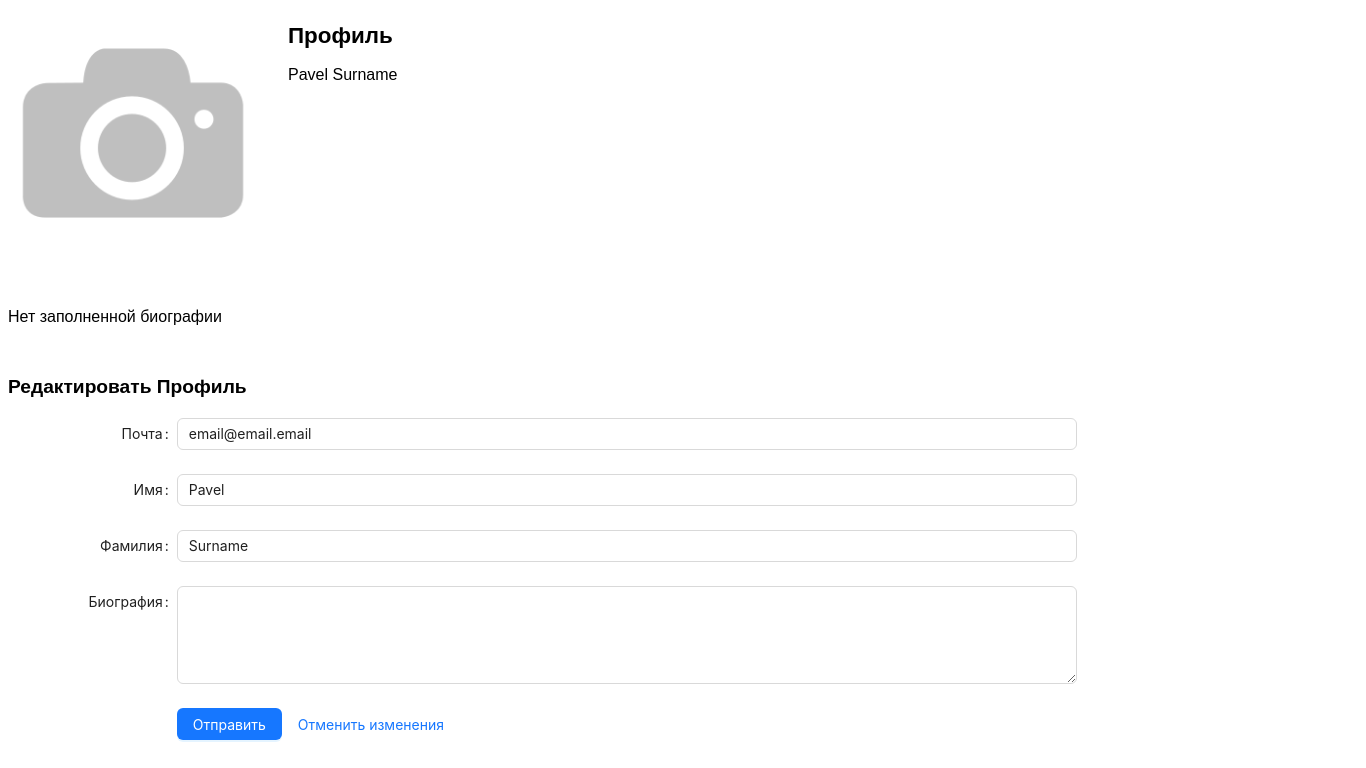
User Profile › should set form field with default values on clicking reset button
Type "Ivan" into the field labelled "Имя" at (627, 490), box x1=177 y1=474 x2=1077 y2=506
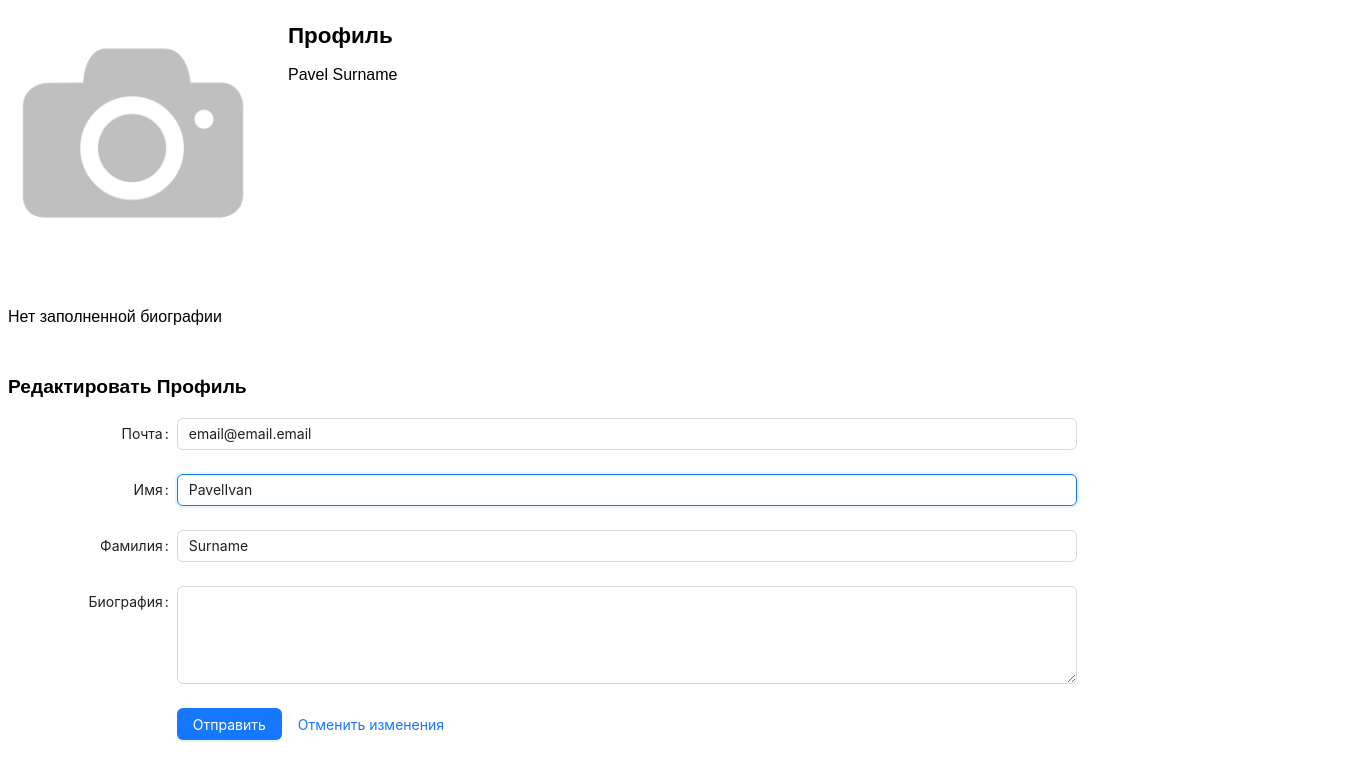
Type "Ivanov" into the field labelled "Фамилия" at (627, 546), box x1=177 y1=530 x2=1077 y2=562
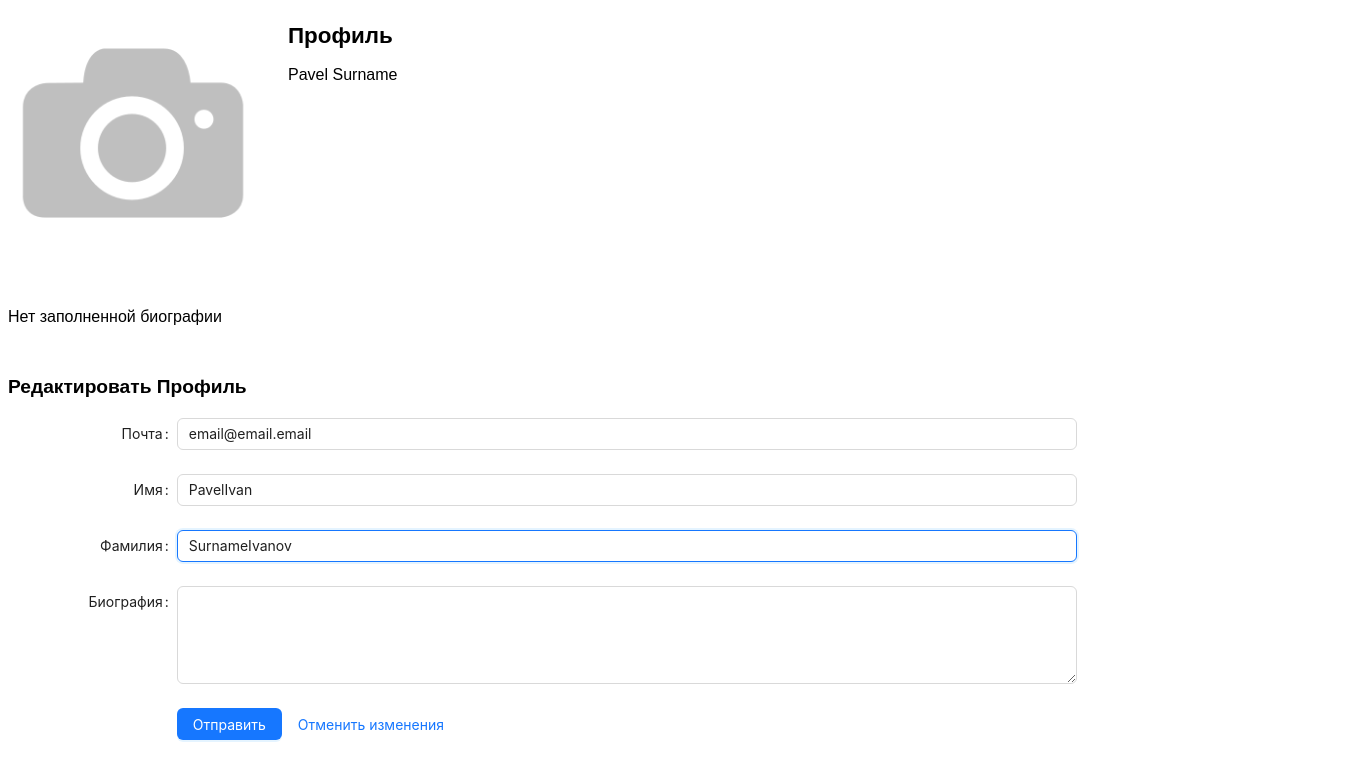
Click the button "Отменить изменения" at (371, 724), box x1=282 y1=708 x2=460 y2=740
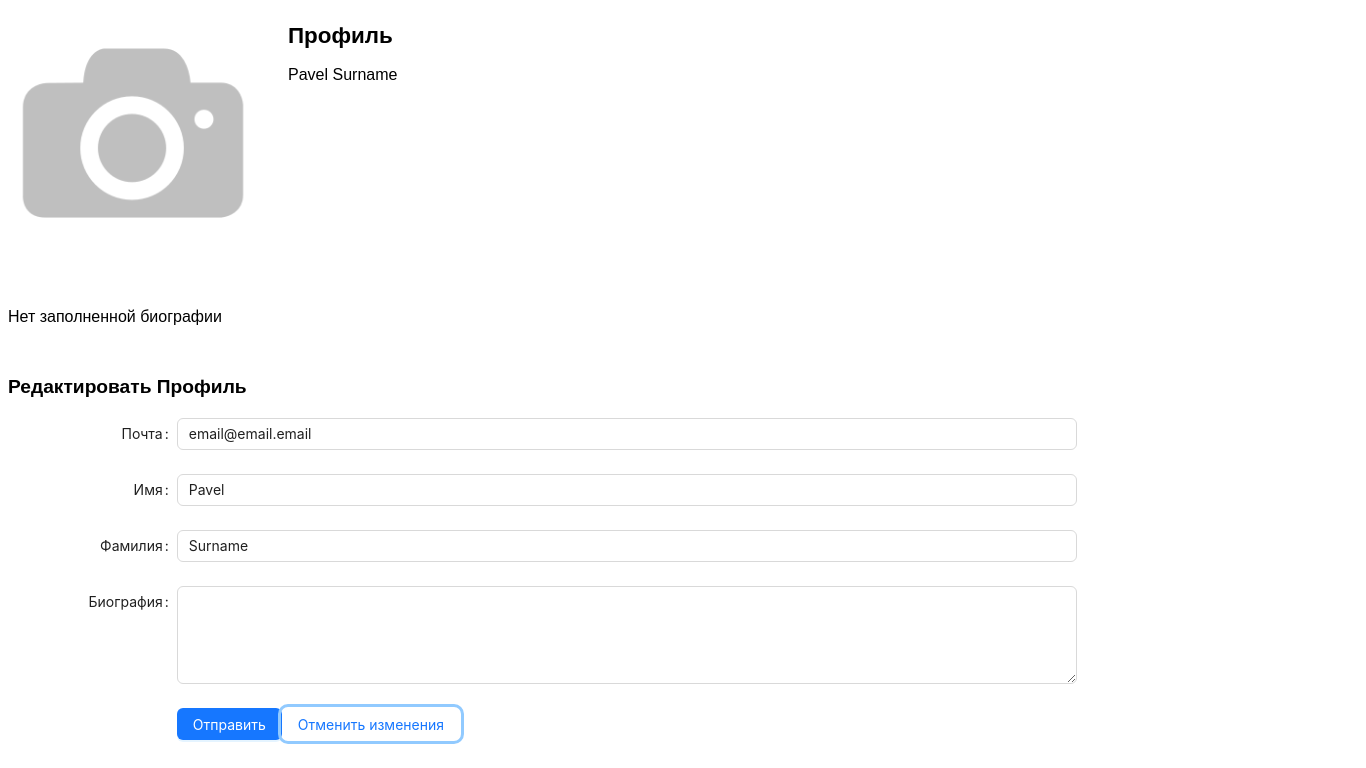
Expected: the field labelled "Имя" holds "Pavel", x1=177 y1=474 x2=1077 y2=506
Expected: the field labelled "Фамилия" holds "Surname", x1=177 y1=530 x2=1077 y2=562
